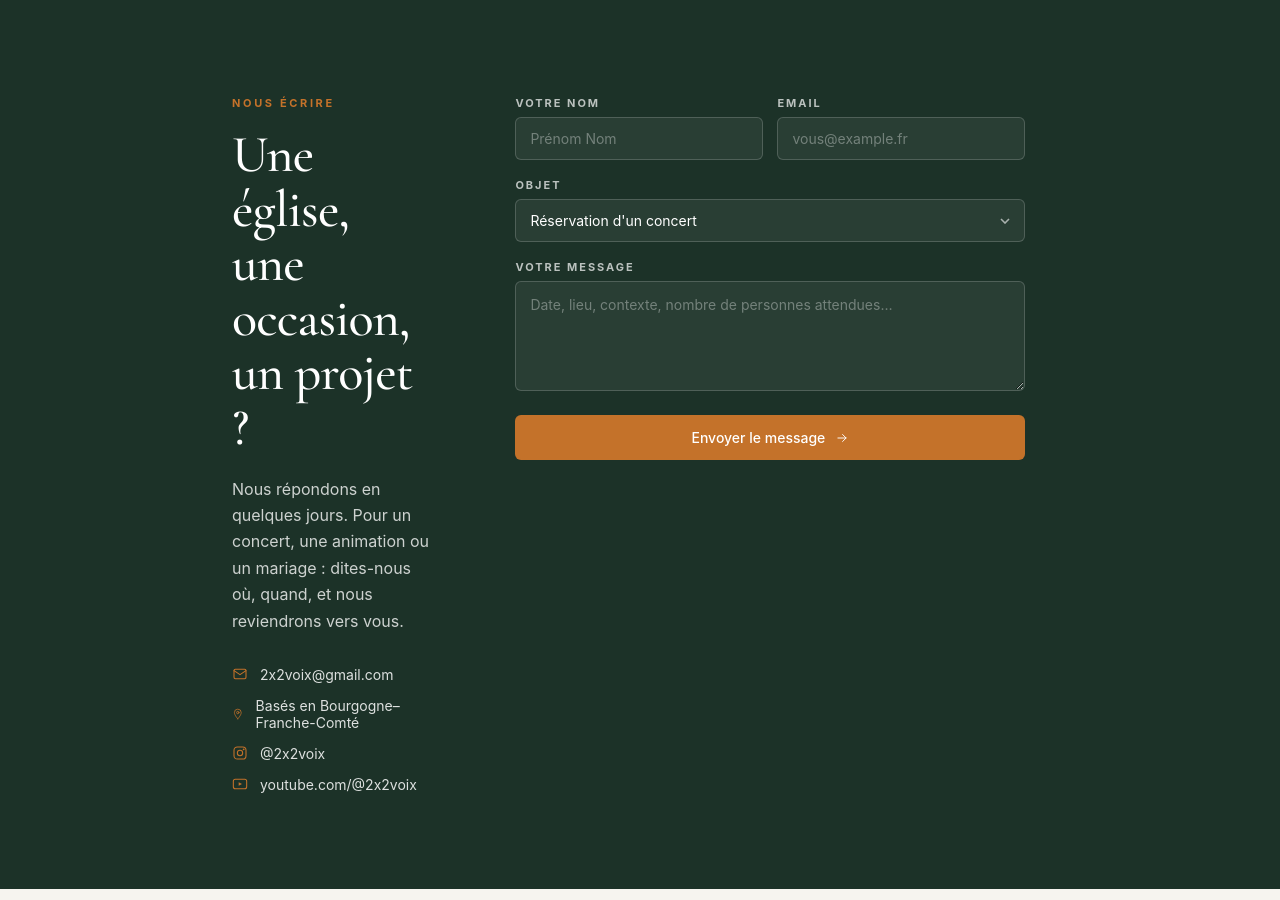
Scenario: Contact › affiche le message de succès après envoi réussi
Type "Jean" into the field labelled "Votre nom". click: (639, 138)
box: [515,117,763,160]
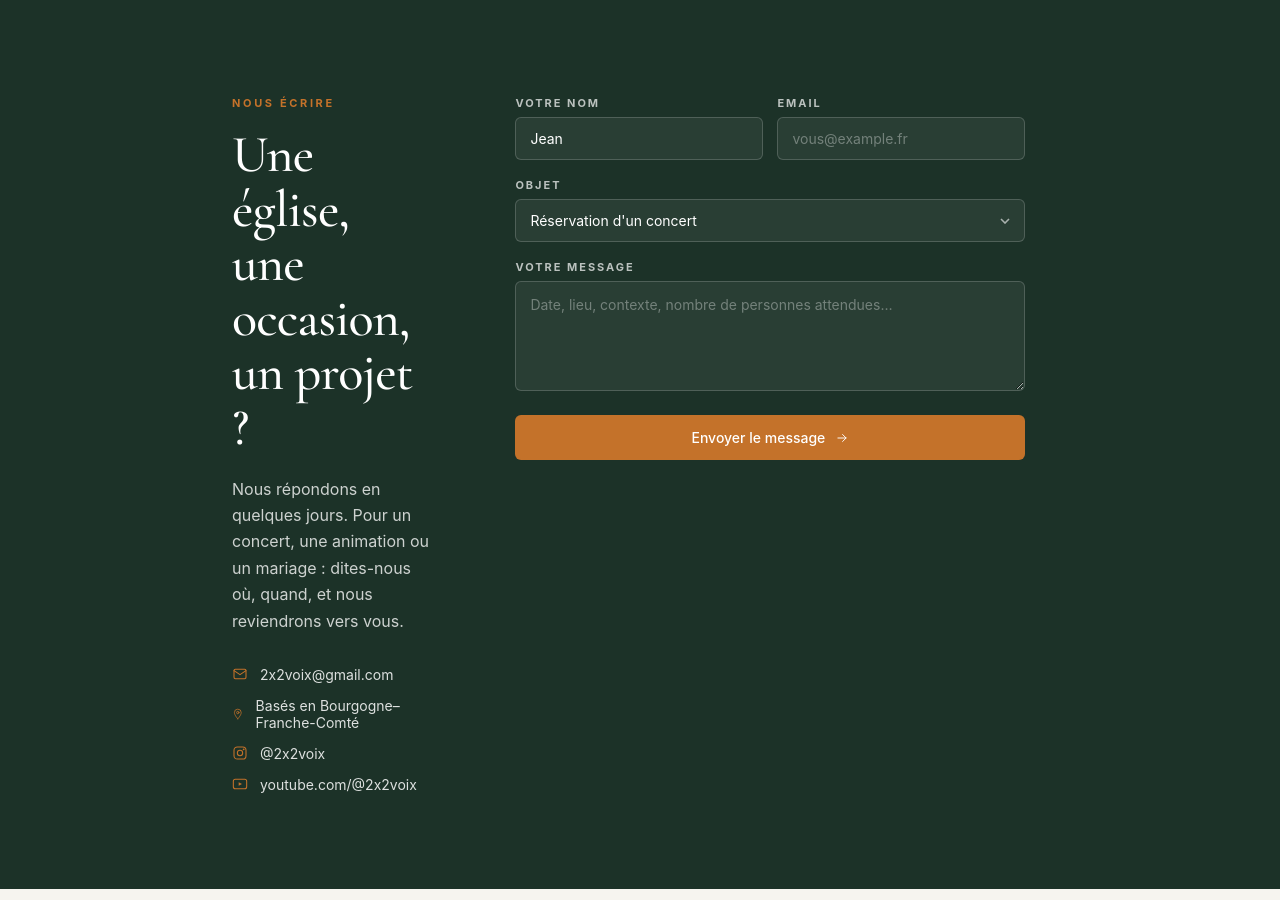
Type "jean@test.fr" into the field labelled "Email". click: (901, 138)
box: [777,117,1025,160]
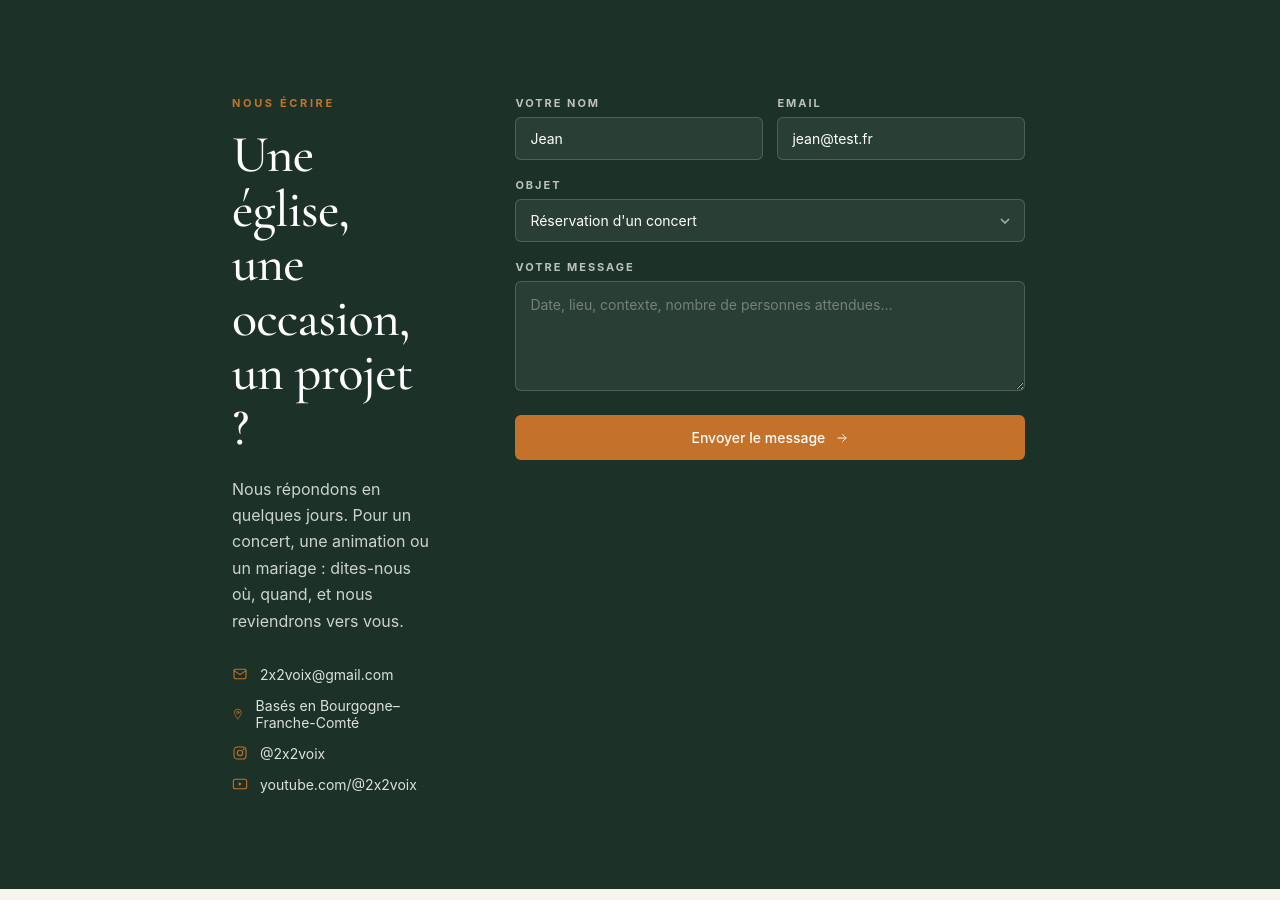
Type "Bonjour" into the text box labelled "Votre message". click: (770, 336)
box: [515,281,1025,391]
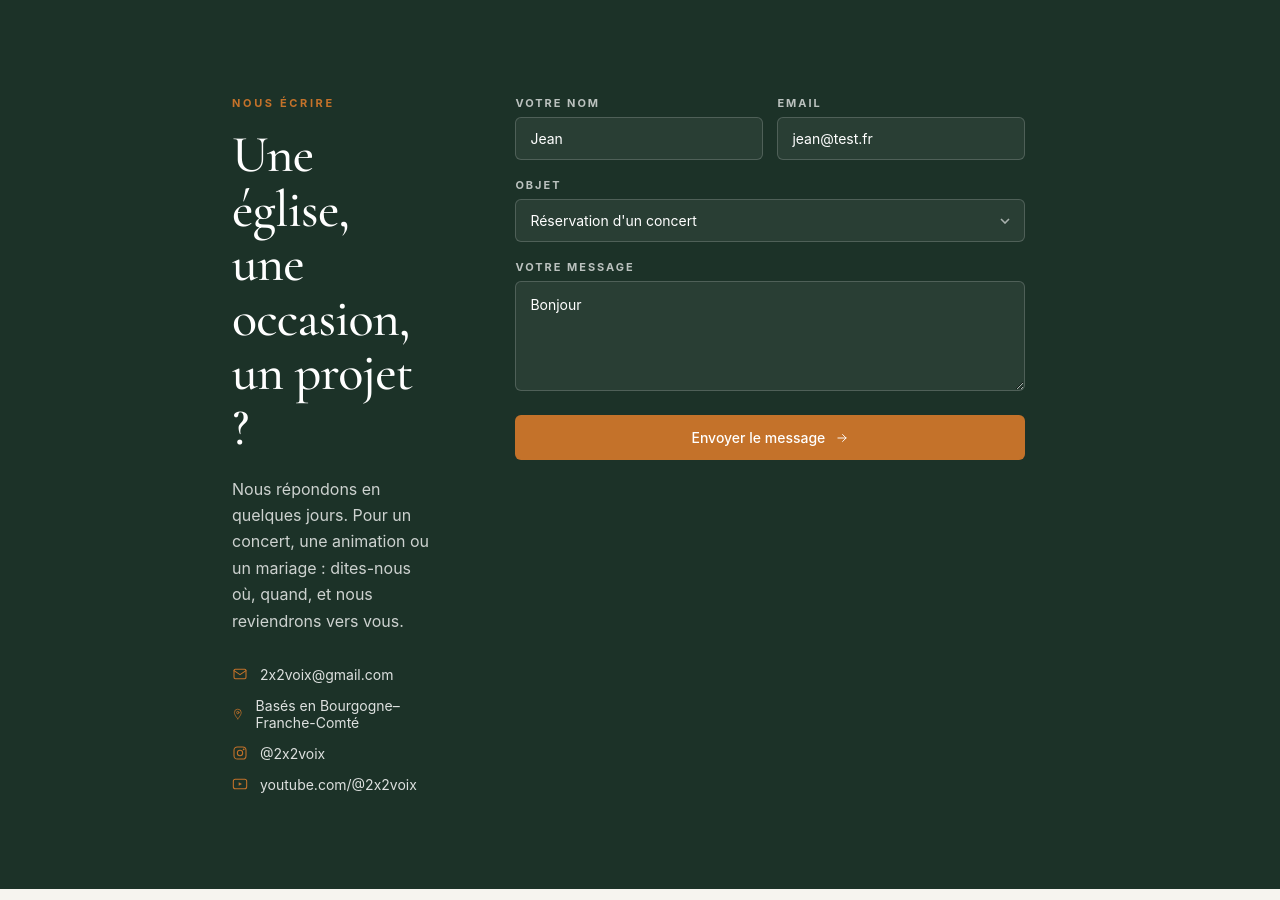
Submit the form "Votre nom Email Objet Votre message Envoyer le message", box [515,96,1025,460]
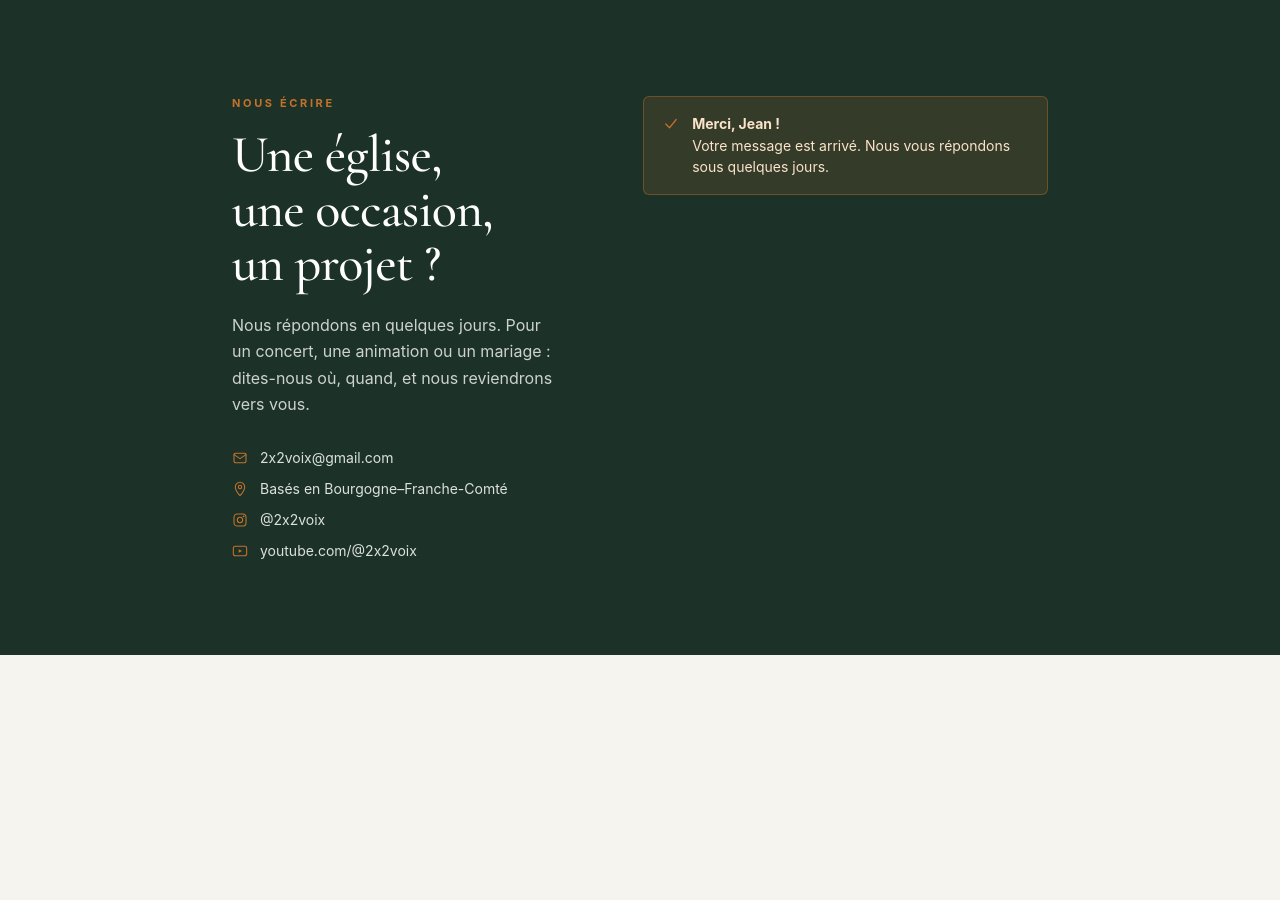
Check: the text "Merci, Jean !" is shown, box [692,115,780,132]
